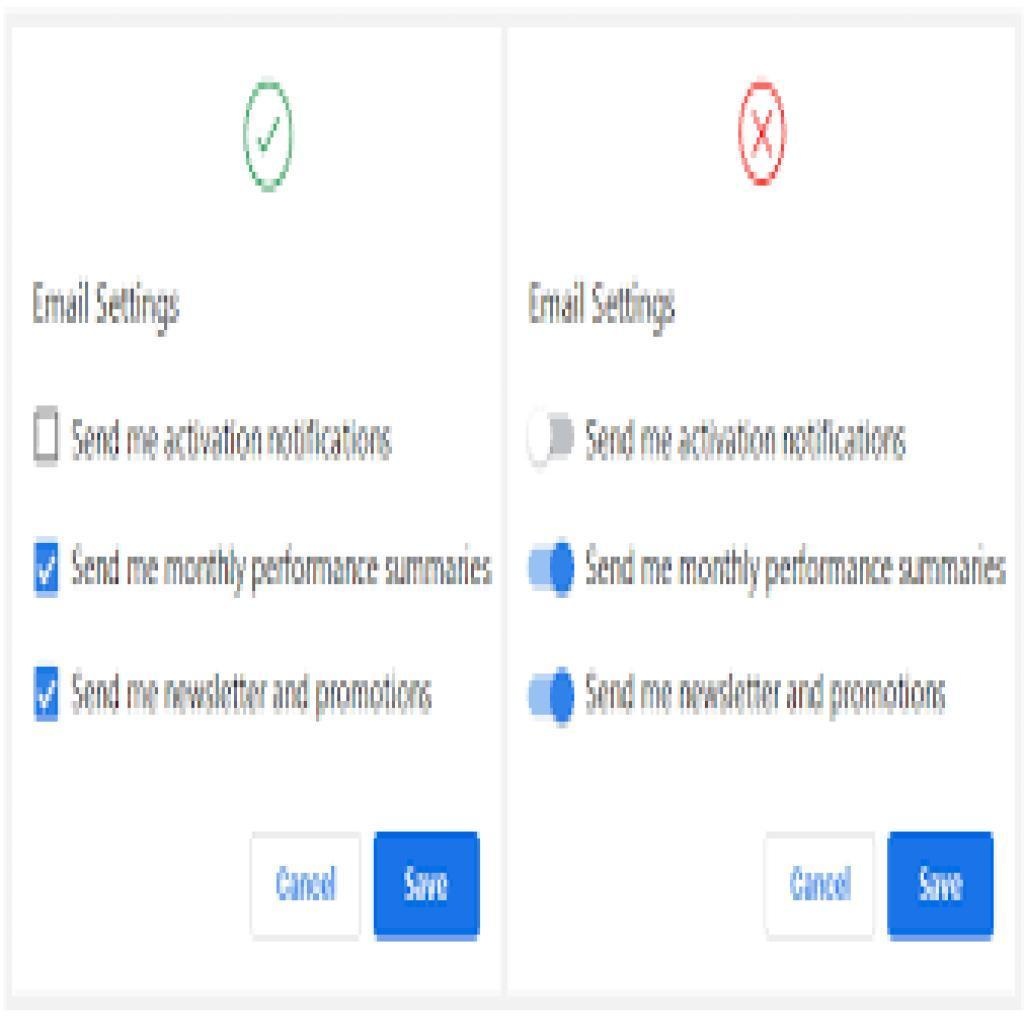button: (886, 833, 995, 938), (252, 836, 363, 938), (378, 833, 481, 941), (767, 833, 875, 934)
checkbox: (33, 667, 63, 721), (33, 540, 59, 594), (35, 412, 61, 465)
label: (585, 666, 953, 727), (587, 541, 1010, 594), (69, 543, 499, 594), (69, 671, 438, 722), (587, 414, 916, 471), (72, 414, 399, 467), (25, 276, 190, 335), (523, 278, 682, 333)
switch: (525, 535, 579, 600), (526, 406, 579, 471), (525, 668, 577, 733)
